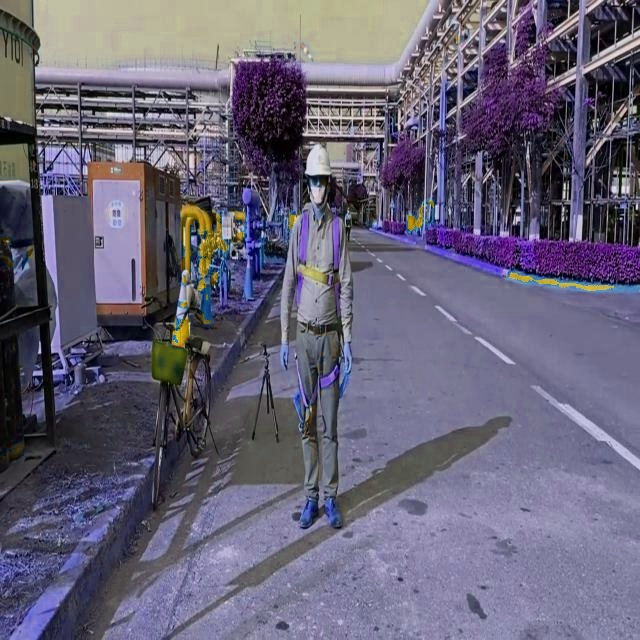safety belt: (292, 215, 357, 409)
